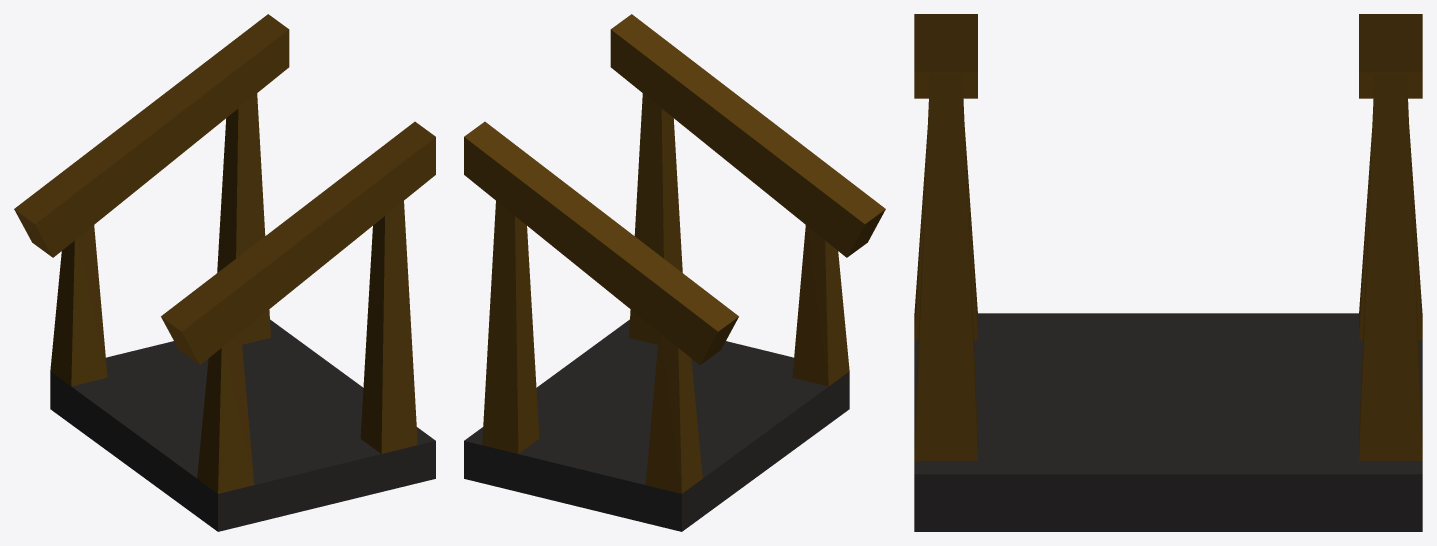
Rendered from obj_stairs_8_0.obj.
3 views of the same model, side by side, from view 1: azimuth 30°, elevation 25°; view 2: azimuth 150°, elevation 25°; view 3: azimuth 270°, elevation 25° (orthographic). The views are drawn at different scales.
Bounding box in the file's own units: 0.875 × 1.12 × 1.
